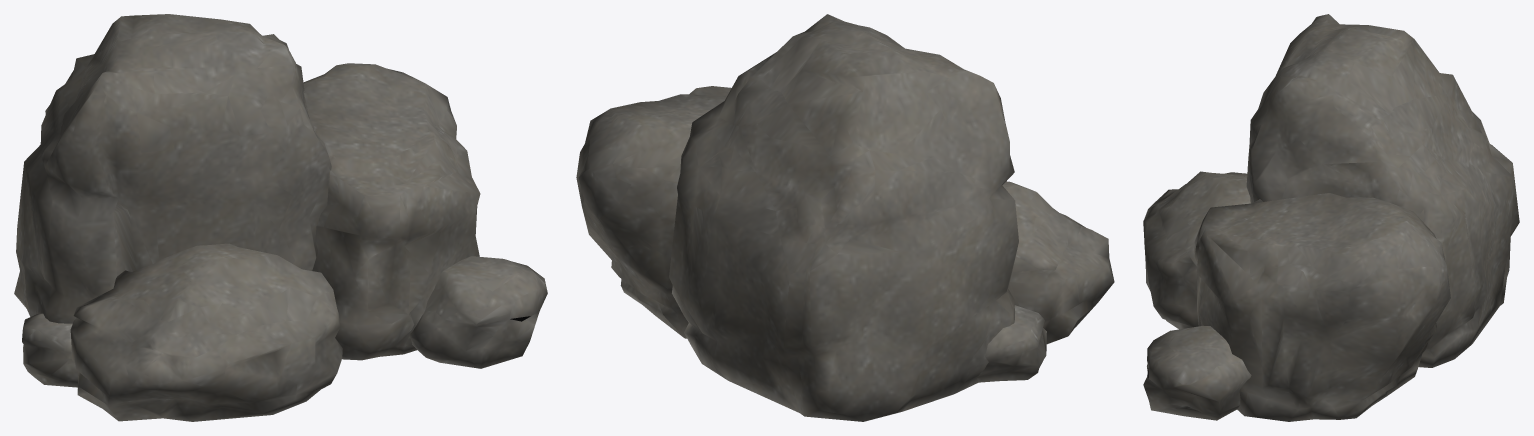
Rendered from fractured_boulder_cluster_LOD1.fbx.
3 renders of one model, left to right at view 1: azimuth 30°, elevation 25°; view 2: azimuth 150°, elevation 25°; view 3: azimuth 270°, elevation 25°, orthographic. The views are drawn at different scales.
Visible parts, largest first — view 1: fractured_boulder_cluster_LOD1; view 2: fractured_boulder_cluster_LOD1; view 3: fractured_boulder_cluster_LOD1.
Part boxes in pixels (x1,y1,x2,y2): fractured_boulder_cluster_LOD1: (14, 14, 547, 421); fractured_boulder_cluster_LOD1: (576, 14, 1114, 421); fractured_boulder_cluster_LOD1: (1143, 14, 1519, 421).
Size of the model in its own units: 480 by 320 by 399.
